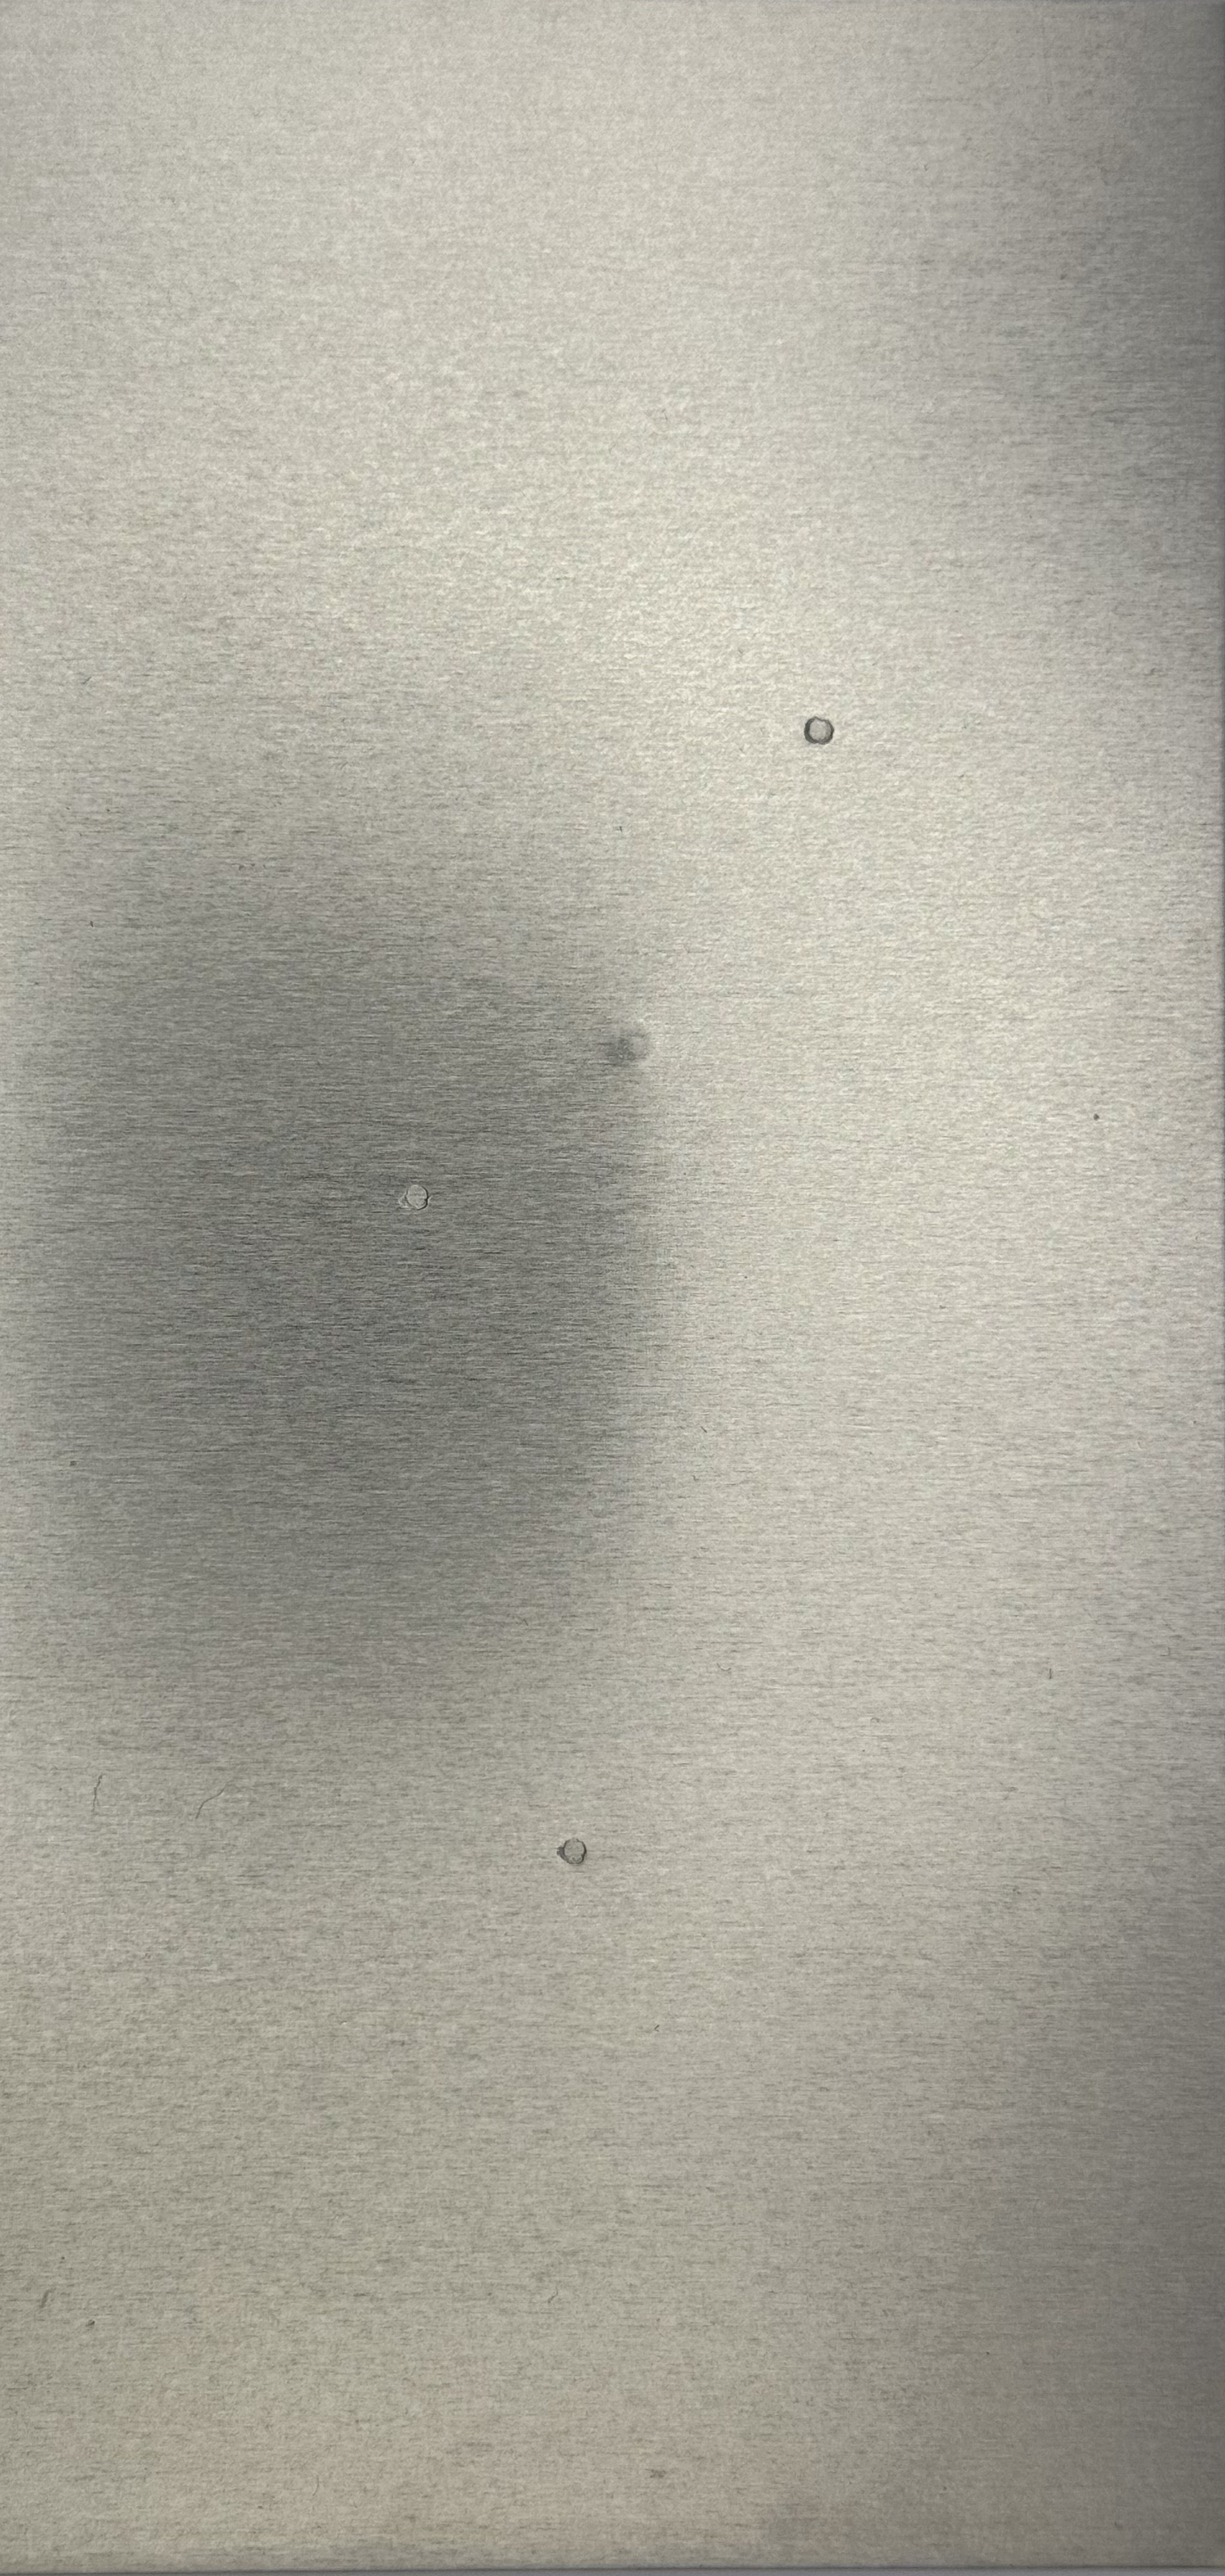Delle: (590, 1007, 680, 1091), (782, 697, 854, 769), (386, 1165, 445, 1230), (545, 1827, 598, 1881)
